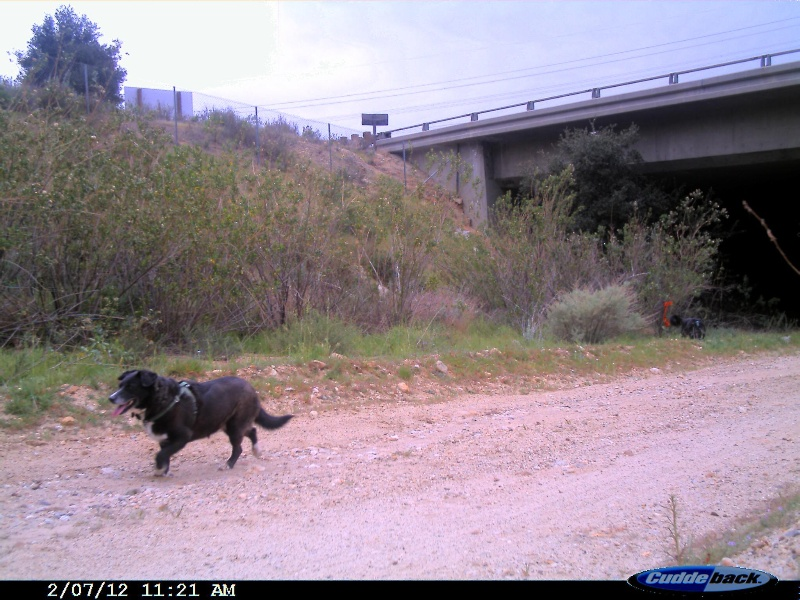dog: (105, 364, 299, 489)
